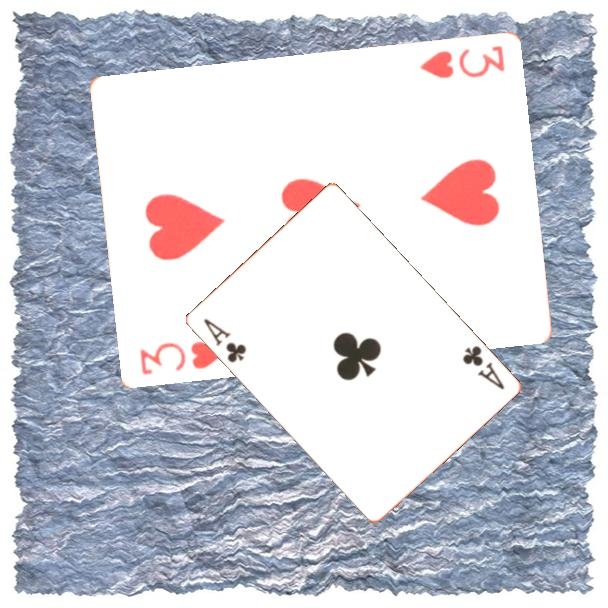c01: (199, 315, 249, 366), (458, 342, 507, 393)
h03: (136, 338, 228, 378), (415, 43, 507, 82)
